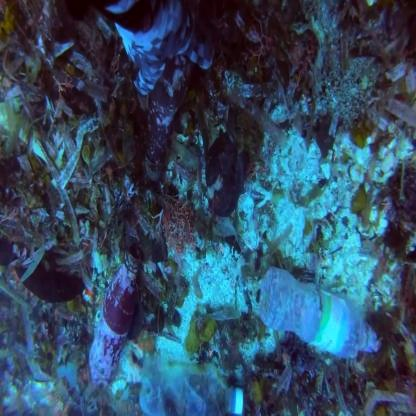gbottle: (83, 236, 139, 384), (149, 73, 181, 175)
pbottle: (248, 246, 398, 357), (140, 354, 249, 416)
